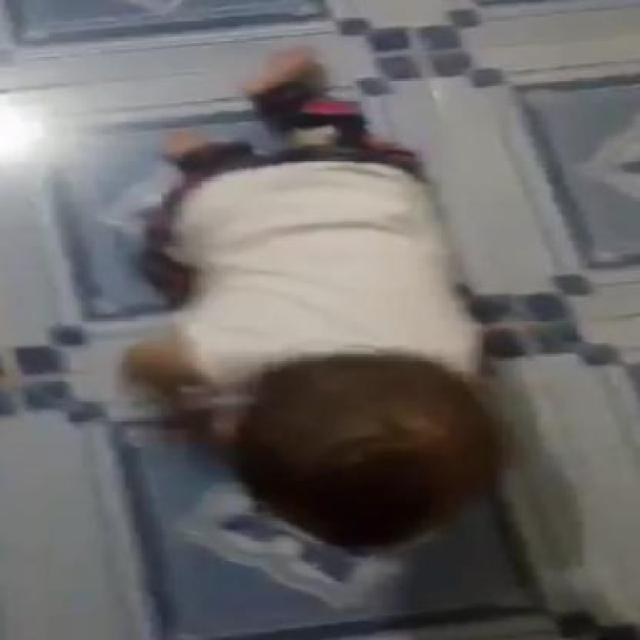baby: (124, 56, 516, 556)
